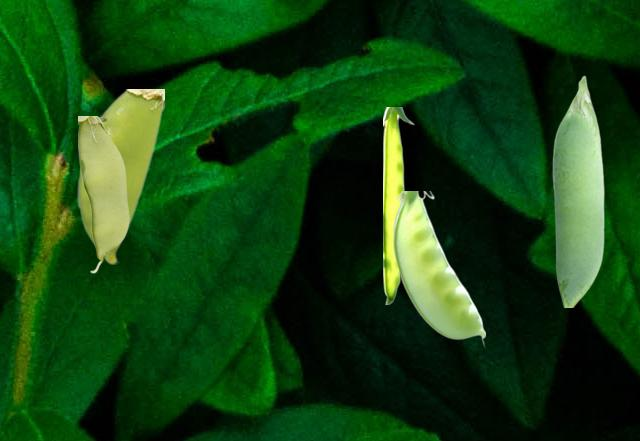pea: (77, 89, 163, 263), (392, 191, 484, 347), (552, 75, 603, 306), (78, 116, 128, 272), (383, 107, 413, 303)
